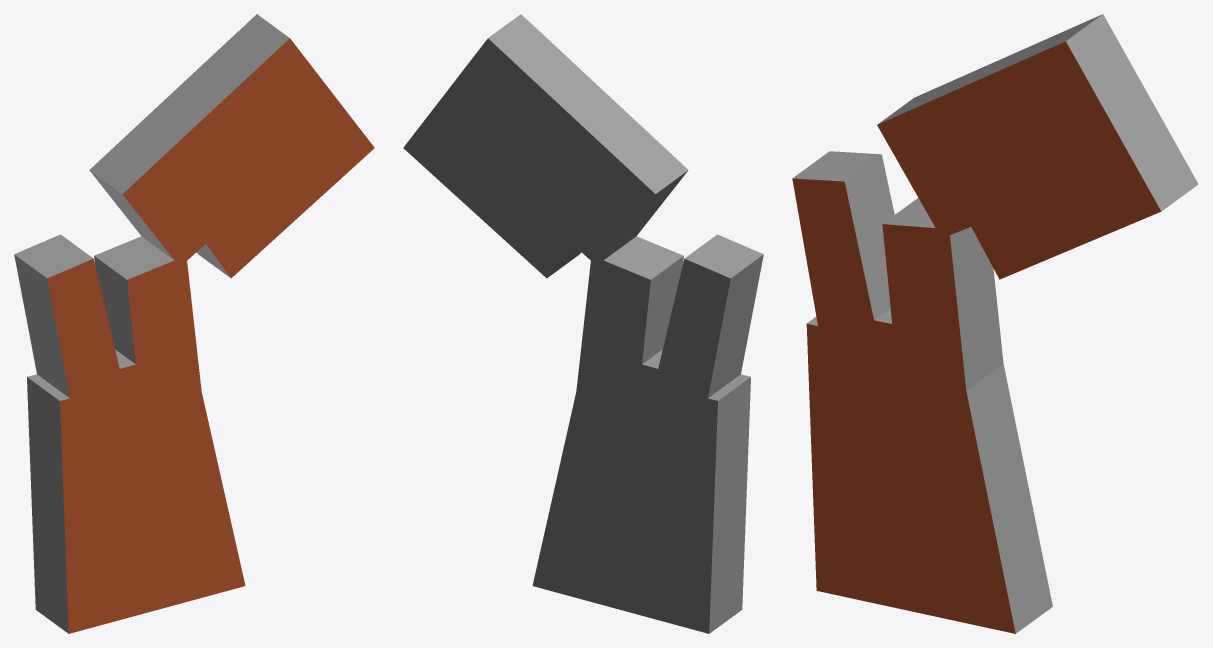
File: construction_6294_assumed_A_Casa_h6m.obj
The picture shows the model from 3 angles, left to right: view 1: azimuth 30°, elevation 25°; view 2: azimuth 150°, elevation 25°; view 3: azimuth 330°, elevation 25°; orthographic projection. The views are drawn at different scales.
Visible parts, largest first — view 1: construction_6294_assumed_A_Casa; view 2: construction_6294_assumed_A_Casa; view 3: construction_6294_assumed_A_Casa.
Boxes of the visible parts, bbox=[...] form: construction_6294_assumed_A_Casa: bbox=[14, 14, 374, 633]; construction_6294_assumed_A_Casa: bbox=[403, 14, 763, 633]; construction_6294_assumed_A_Casa: bbox=[792, 14, 1198, 633].
Size of the model in its own units: 34.33 by 54.24 by 6.
